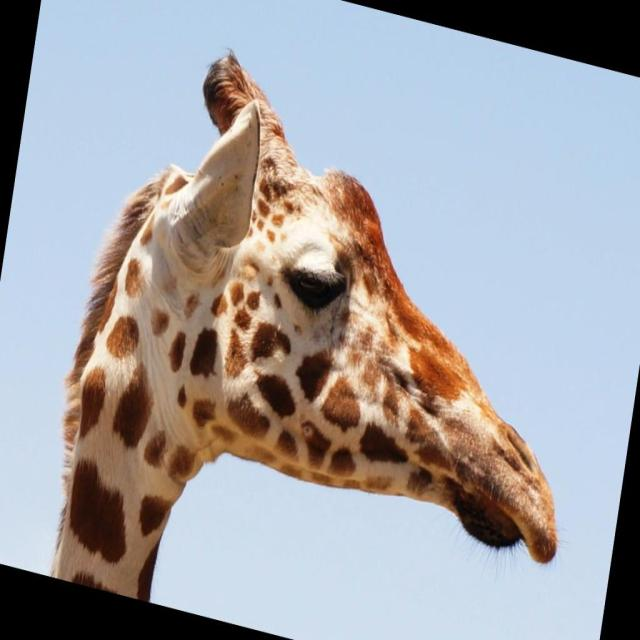Giraffe: (48, 41, 570, 592)
